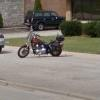Motorcycle: (16, 30, 67, 60)
